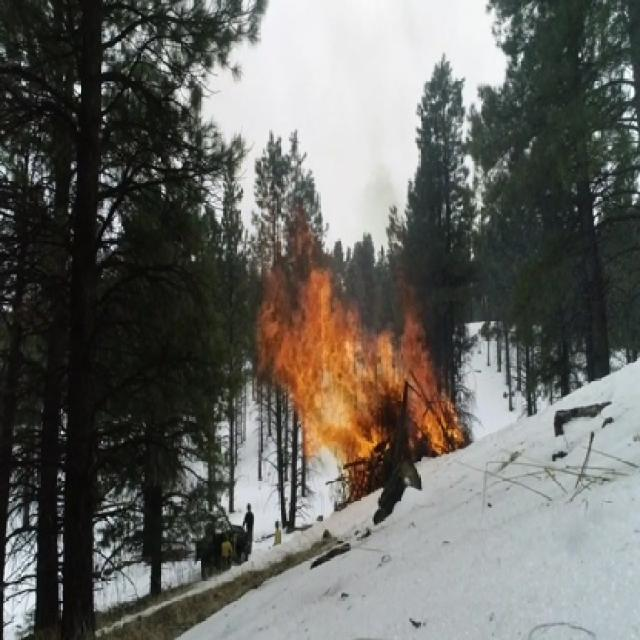Fire: (252, 197, 471, 485)
